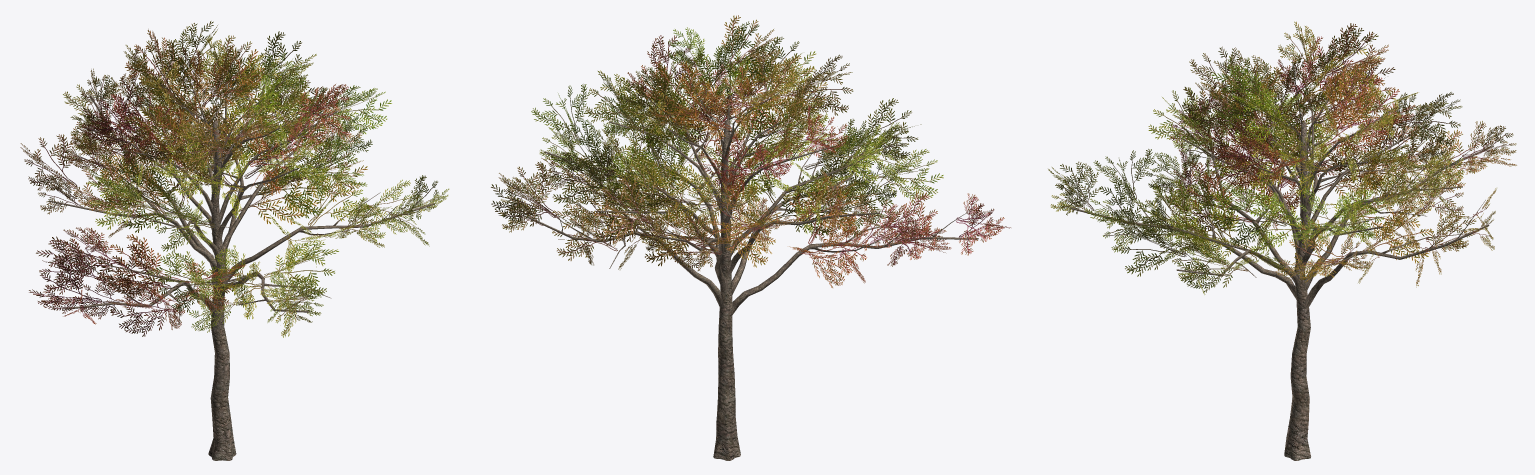
Rendered from acacia0.glb.
The picture shows the model from 3 angles, left to right: view 1: azimuth 30°, elevation 25°; view 2: azimuth 150°, elevation 25°; view 3: azimuth 270°, elevation 25°; orthographic projection. The views are drawn at different scales.
Visible parts, largest first — view 1: Object_2, Object_3; view 2: Object_2, Object_3; view 3: Object_2, Object_3.
Boxes of the visible parts, x1=… form: Object_2: x1=20, y1=21, x2=449, y2=337; Object_3: x1=49, y1=65, x2=434, y2=460; Object_2: x1=491, y1=15, x2=1010, y2=287; Object_3: x1=527, y1=61, x2=978, y2=460; Object_2: x1=1048, y1=21, x2=1516, y2=294; Object_3: x1=1070, y1=61, x2=1493, y2=460.
Bounding box in the file's own units: 13.5 × 12.8 × 13.28.
2 materials, 2 textured.
